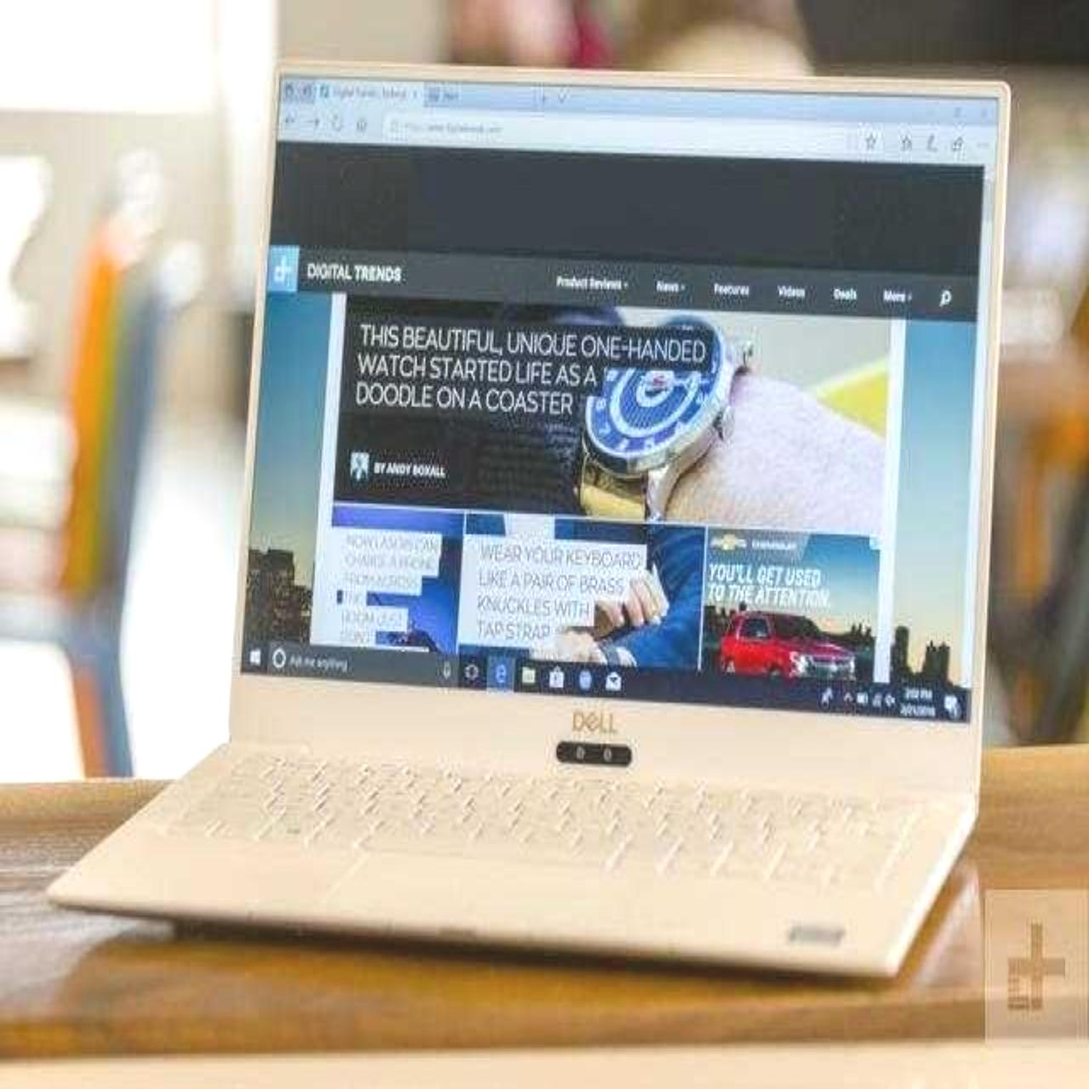laptop: (162, 63, 995, 1033)
